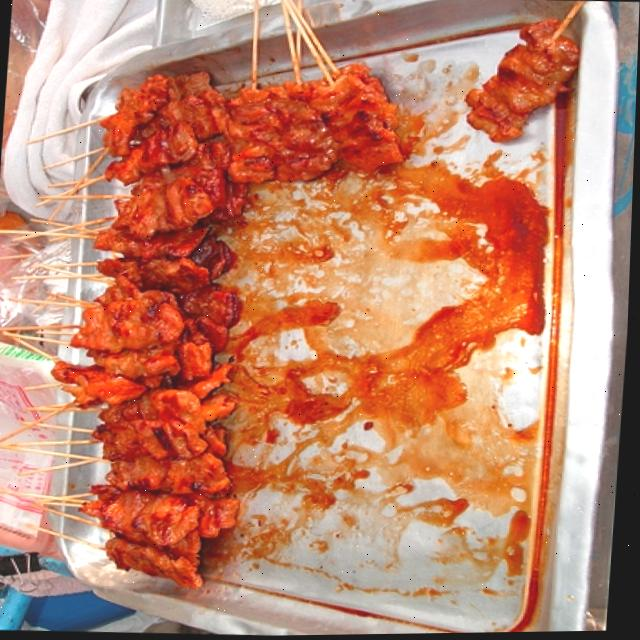牛肉菜式: (0, 0, 444, 637)
